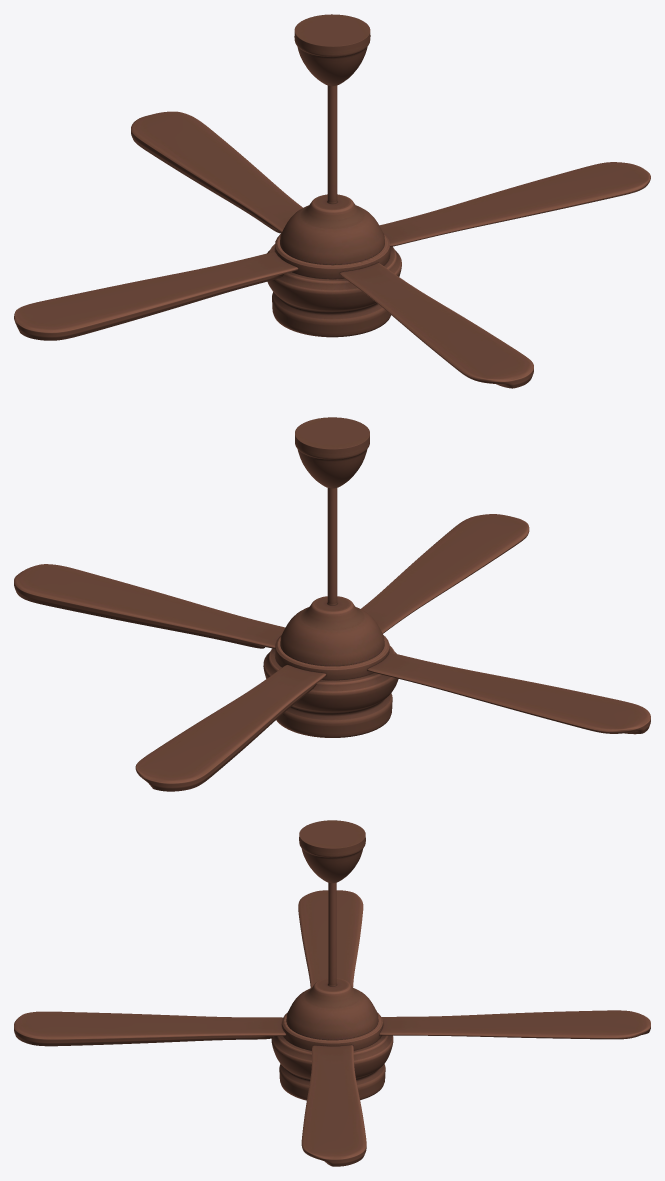
Rendered from FNFN002.glb.
The picture shows the model from 3 angles, top to bottom: view 1: azimuth 30°, elevation 25°; view 2: azimuth 150°, elevation 25°; view 3: azimuth 270°, elevation 25°; orthographic projection. The views are drawn at different scales.
Parts seen in each view (by area): view 1: topbottom.001; view 2: topbottom.001; view 3: topbottom.001.
Part boxes in pixels (box(x1,y1,x2,y2)): topbottom.001: box(14, 14, 650, 388); topbottom.001: box(14, 417, 650, 791); topbottom.001: box(14, 820, 650, 1166).
Bounding box in the file's own units: 1.92 × 0.823 × 1.92.
2 materials, 1 textured.
